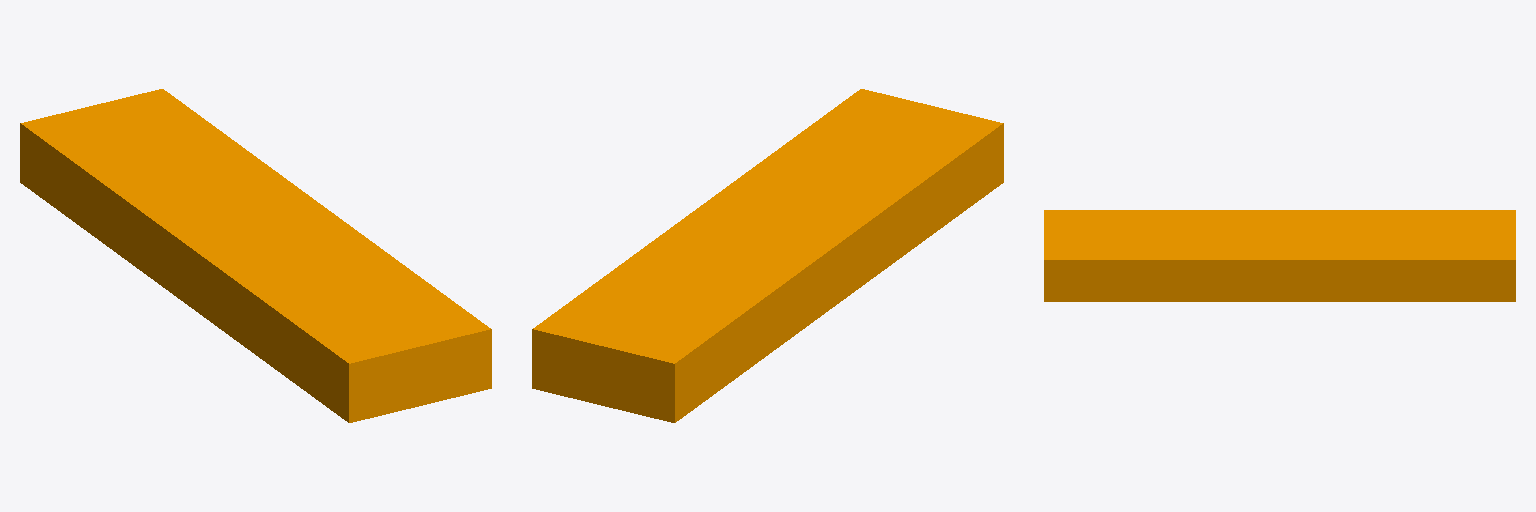
The robot description file, URDF, robot "ball":
<?xml version="0.0" ?>
<robot name="ball">
    <link name="wall">
        <contact>
            <lateral_friction value="1"/>
        </contact>

        <inertial>
            <origin xyz="0 0 0" rpy="0 0 0"/>
            <mass value="0.0"/>
            <inertia ixx="0"  ixy="0"  ixz="0" iyy="0" iyz="0" izz="0" />
        </inertial>

        <visual>
            <origin xyz="0 0 0" rpy="0 0 0" />
            <geometry>
                <box size="0.5 2.0 0.2" />
            </geometry>
            <material name="Orange">
                <color rgba="1.0 0.65 0.0 1.0"/>
            </material>
        </visual>

        <collision>
            <origin xyz="0 0 0" rpy="0 0 0"/>
            <geometry>
                <box size="0.5 2.0 0.2" />
            </geometry>
        </collision>
    </link>
</robot>

--- What the picture shows (computed from the rendered views, not written in the file) ---
The picture shows the robot from 3 angles, left to right: view 1: azimuth 30°, elevation 25°; view 2: azimuth 150°, elevation 25°; view 3: azimuth 270°, elevation 25°; orthographic projection.
Robot: ball — 1 links, 0 joints (none); root link wall; default pose: every joint at zero.
Visible links, largest first — view 1: wall; view 2: wall; view 3: wall.
Link boxes in pixels (x1=…): wall: x1=20, y1=89, x2=491, y2=422; wall: x1=532, y1=89, x2=1003, y2=422; wall: x1=1044, y1=210, x2=1515, y2=301.
Size in the robot's own frame: 0.5 by 2 by 0.2 metres.
Geometry: primitives only (box / cylinder / sphere), no mesh files.